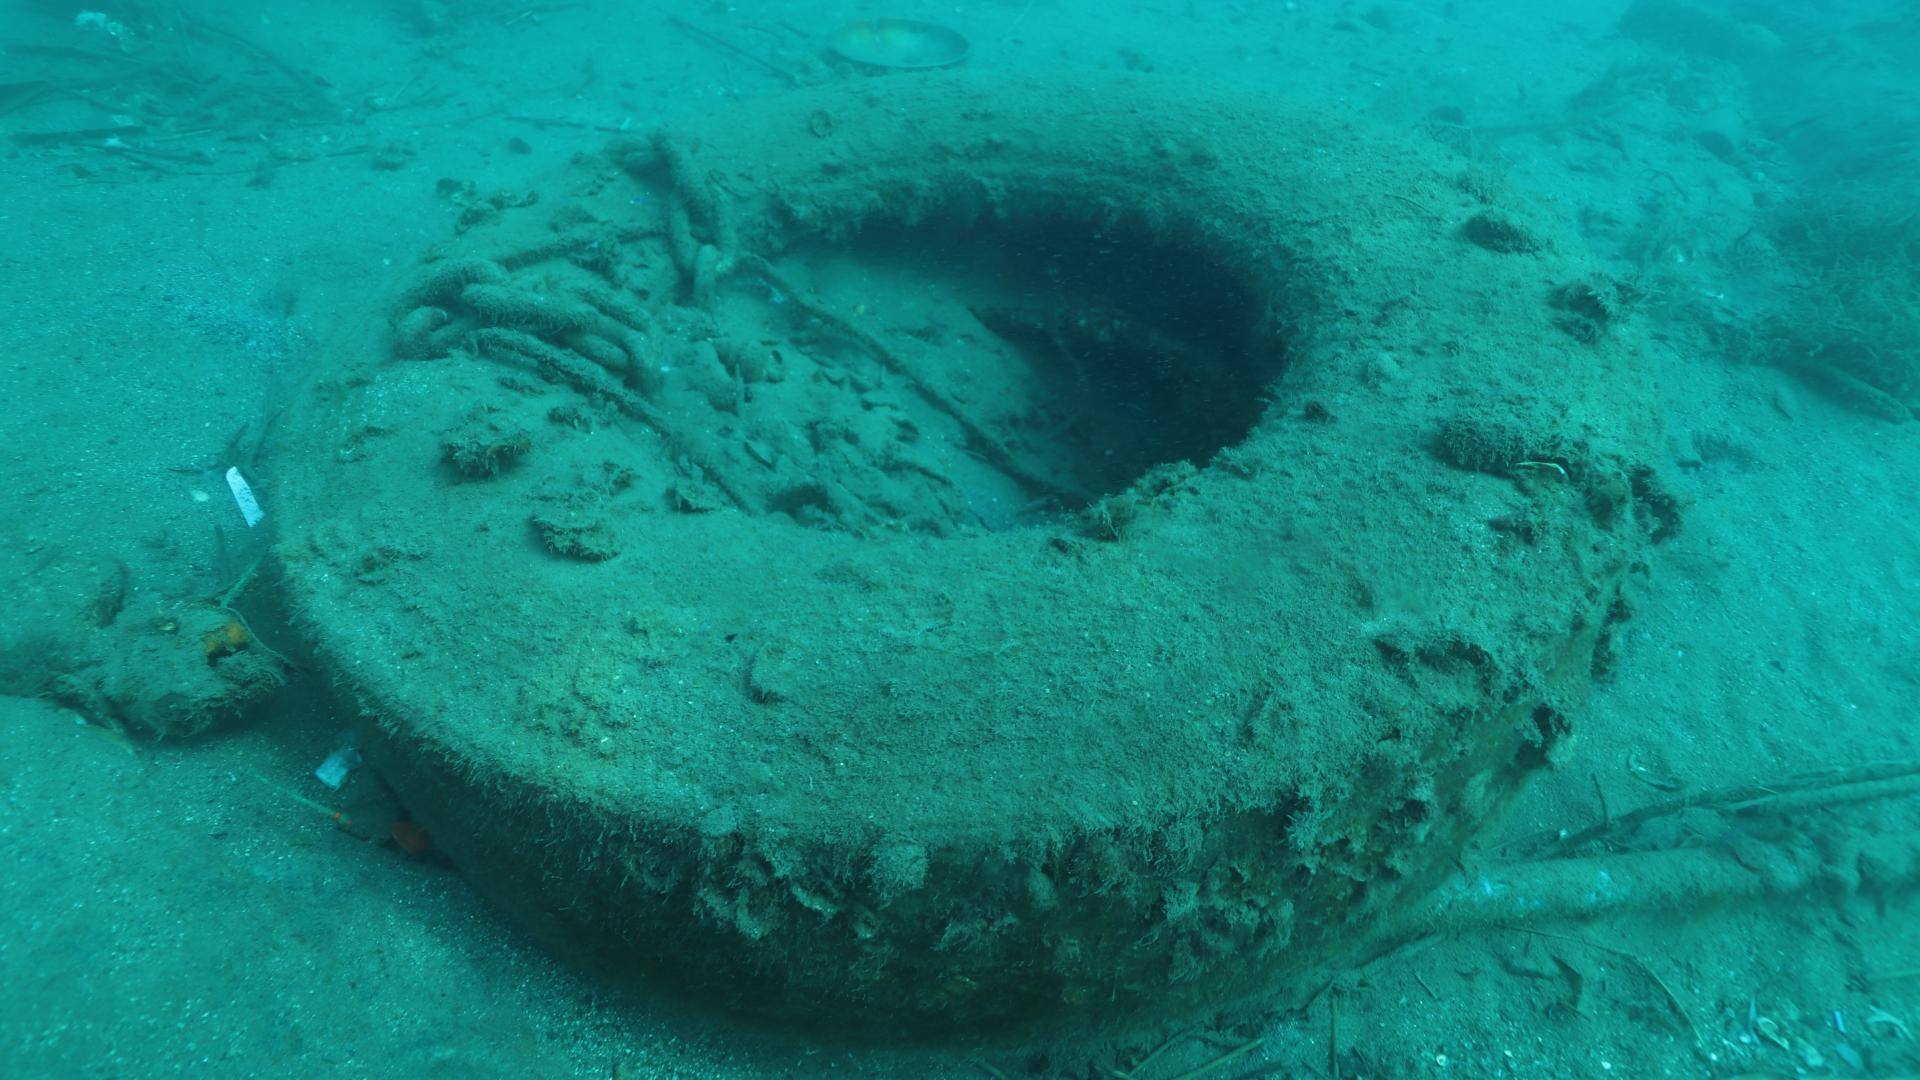tire: (268, 69, 1626, 1038)
